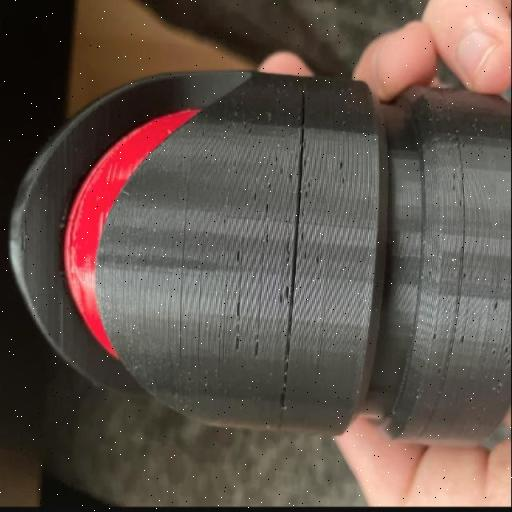cracks: (232, 96, 322, 416)
